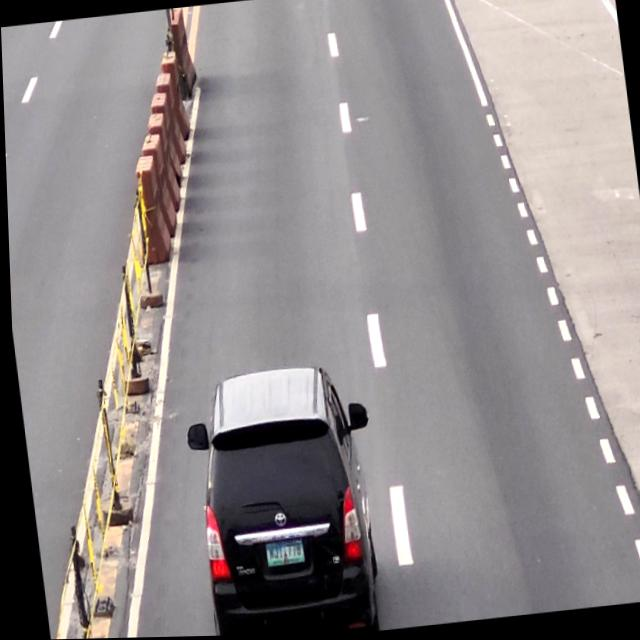Car: (185, 369, 379, 637)
License-Plate: (258, 536, 304, 570)
